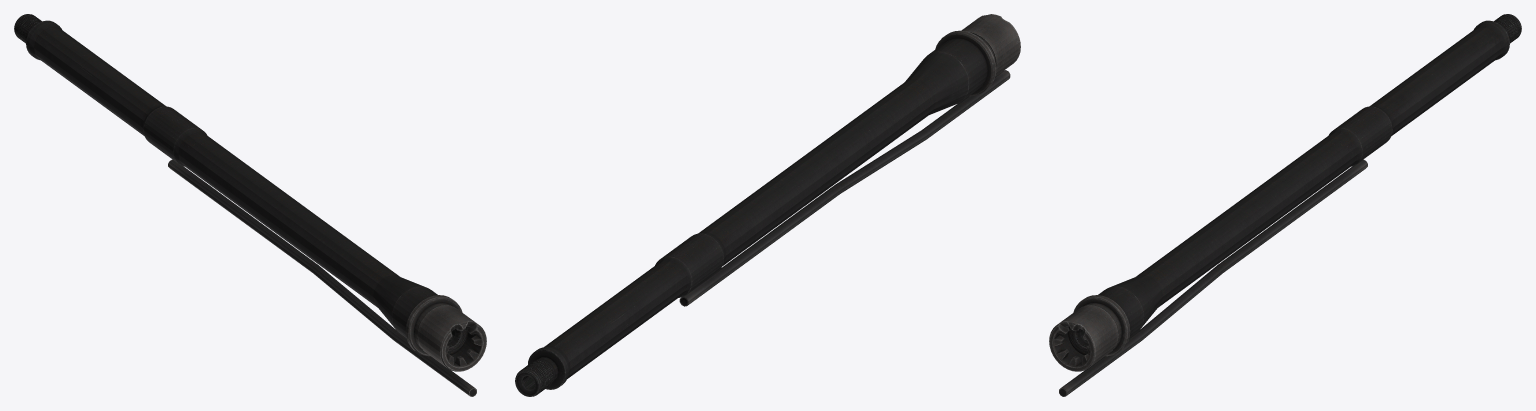
3 views of the same model, side by side, from view 1: azimuth 30°, elevation 25°; view 2: azimuth 150°, elevation 25°; view 3: azimuth 330°, elevation 25° (orthographic). The views are drawn at different scales.
Parts seen in each view (by area): view 1: TW_63d3d44a2a49307baf09386d_PZ_Import; view 2: TW_63d3d44a2a49307baf09386d_PZ_Import; view 3: TW_63d3d44a2a49307baf09386d_PZ_Import.
Part boxes in pixels (x1,y1,x2,y2): TW_63d3d44a2a49307baf09386d_PZ_Import: (14, 14, 486, 396); TW_63d3d44a2a49307baf09386d_PZ_Import: (515, 14, 1020, 396); TW_63d3d44a2a49307baf09386d_PZ_Import: (1049, 14, 1521, 396).
Bounding box in the file's own units: 0.0171 × 0.2405 × 0.0214.
1 material, 1 textured.
